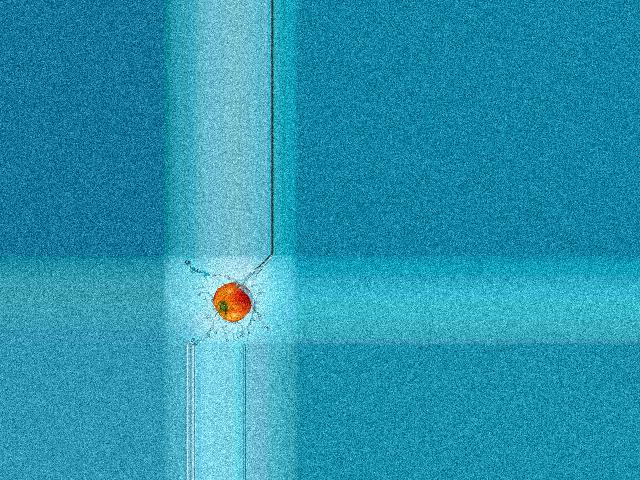tomato: (213, 282, 251, 322)
